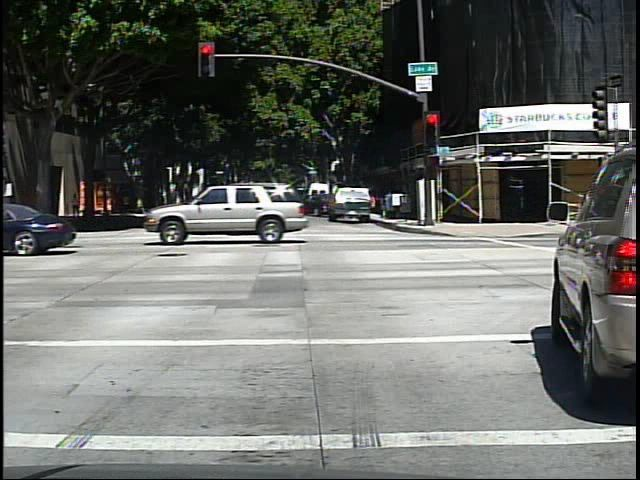person: (67, 188, 84, 224)
